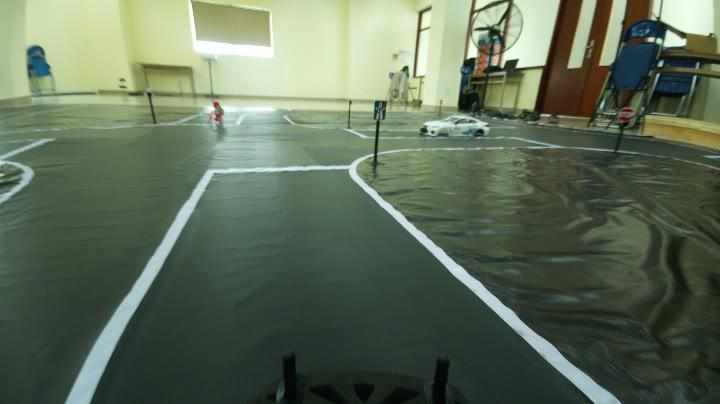highway_exit: (370, 97, 390, 121)
